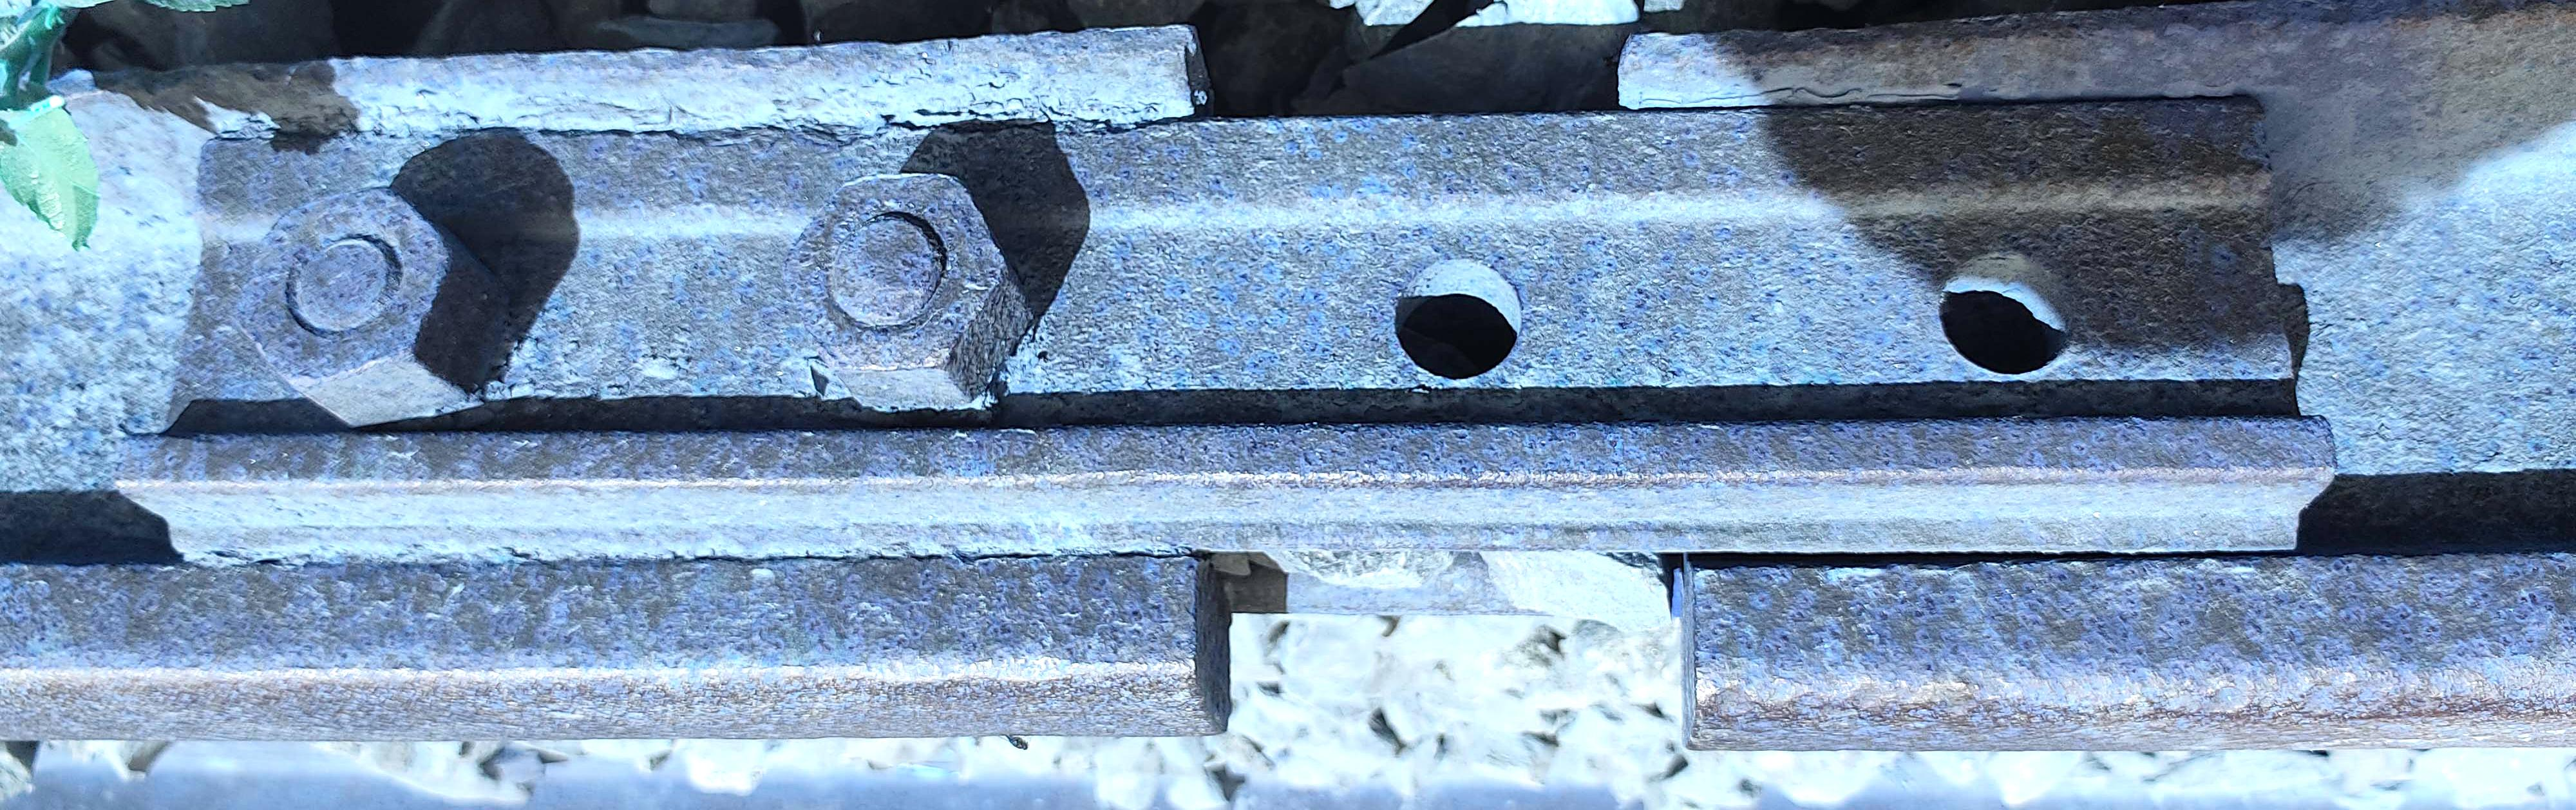error2: (1143, 486, 1759, 779)
